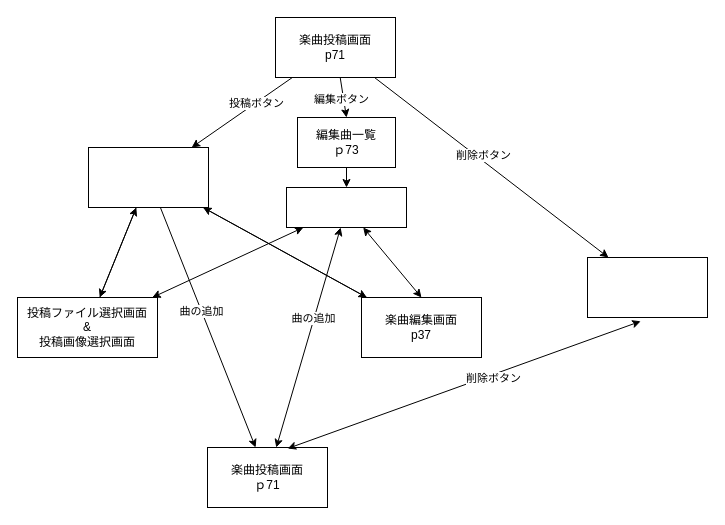
This 725x525 diagram has some shape labels left out. The box of each missing label's shape, as (x1, y1, x2, y2) in pixels:
投稿済み曲一覧画面 p75: (586, 256, 708, 318)
投稿画面 p72: (88, 146, 208, 208)
編集画面 p73: (286, 186, 406, 228)
